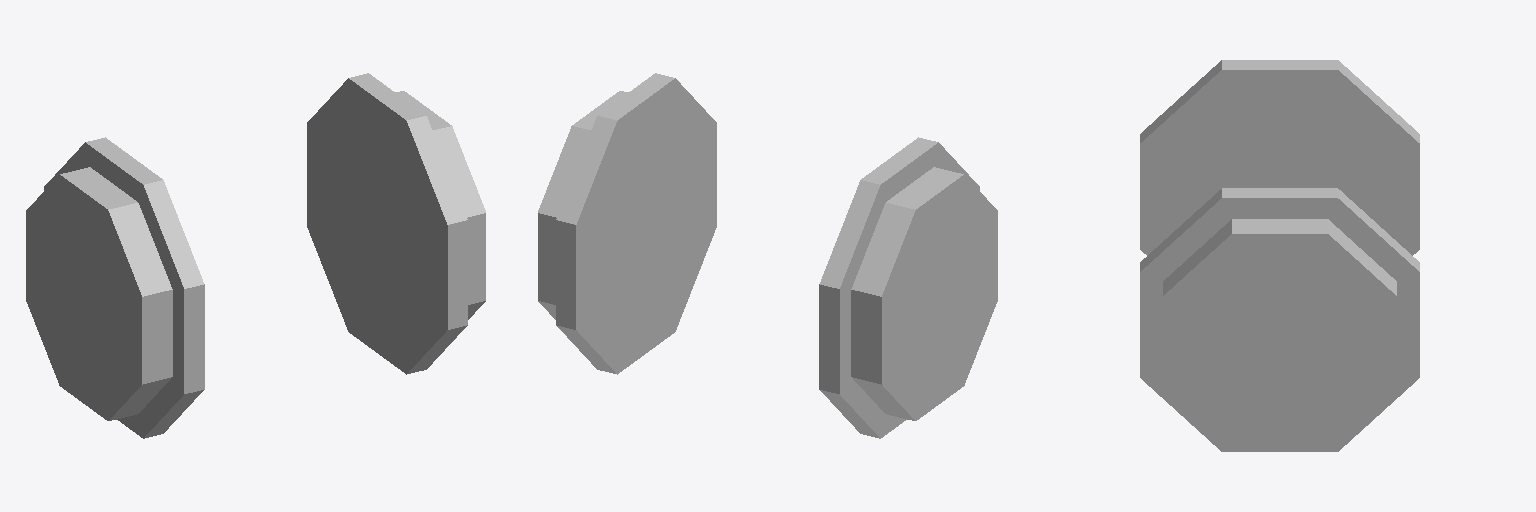
File: wheels_single.obj
3 renders of one model, left to right at view 1: azimuth 30°, elevation 25°; view 2: azimuth 150°, elevation 25°; view 3: azimuth 270°, elevation 25°, orthographic.
Parts seen in each view (by area): view 1: Cube.038_Cube.046; view 2: Cube.038_Cube.046; view 3: Cube.038_Cube.046.
Part boxes in pixels (left/top/right/bottom): Cube.038_Cube.046: left=26, top=73, right=485, bottom=438; Cube.038_Cube.046: left=538, top=73, right=997, bottom=438; Cube.038_Cube.046: left=1140, top=60, right=1419, bottom=451.
Bounding box in the file's own units: 2.13 × 1.5 × 1.5.